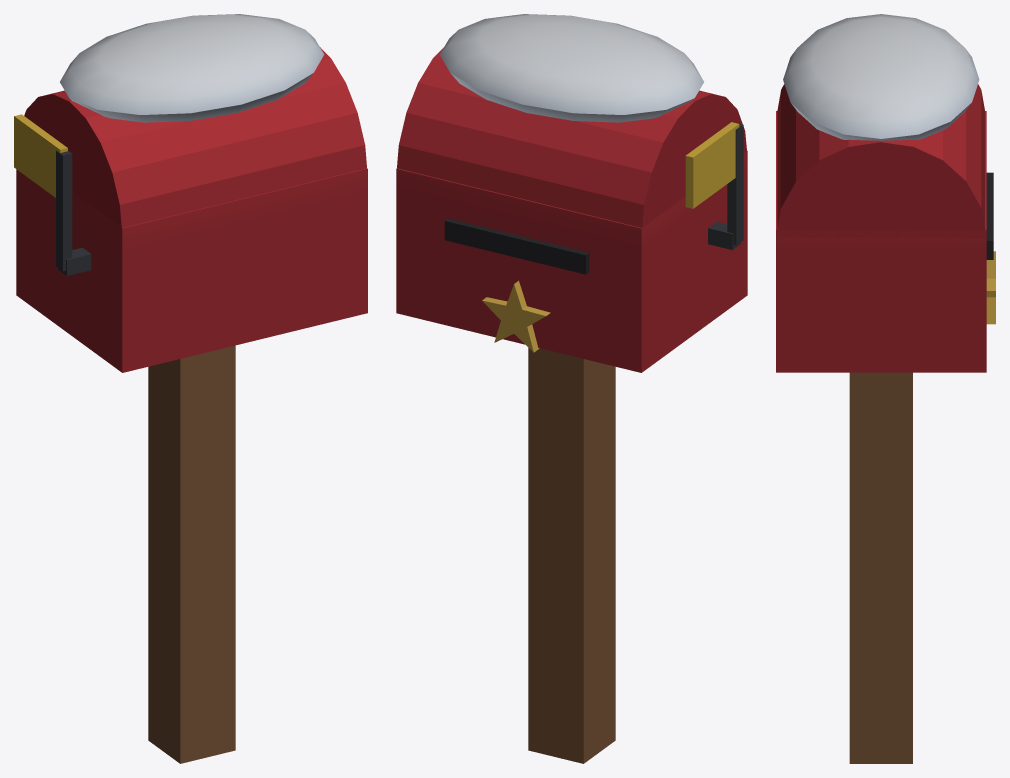
File: Xmas_Mailbox.fbx
3 renders of one model, left to right at view 1: azimuth 30°, elevation 25°; view 2: azimuth 150°, elevation 25°; view 3: azimuth 270°, elevation 25°, orthographic.
Visible parts, largest first — view 1: Xmas_Mailbox; view 2: Xmas_Mailbox; view 3: Xmas_Mailbox.
Boxes of the visible parts, bbox=[...] form: Xmas_Mailbox: bbox=[14, 14, 367, 763]; Xmas_Mailbox: bbox=[396, 14, 747, 763]; Xmas_Mailbox: bbox=[776, 14, 995, 763].
Size of the model in its own units: 8.9 by 22 by 6.27.
